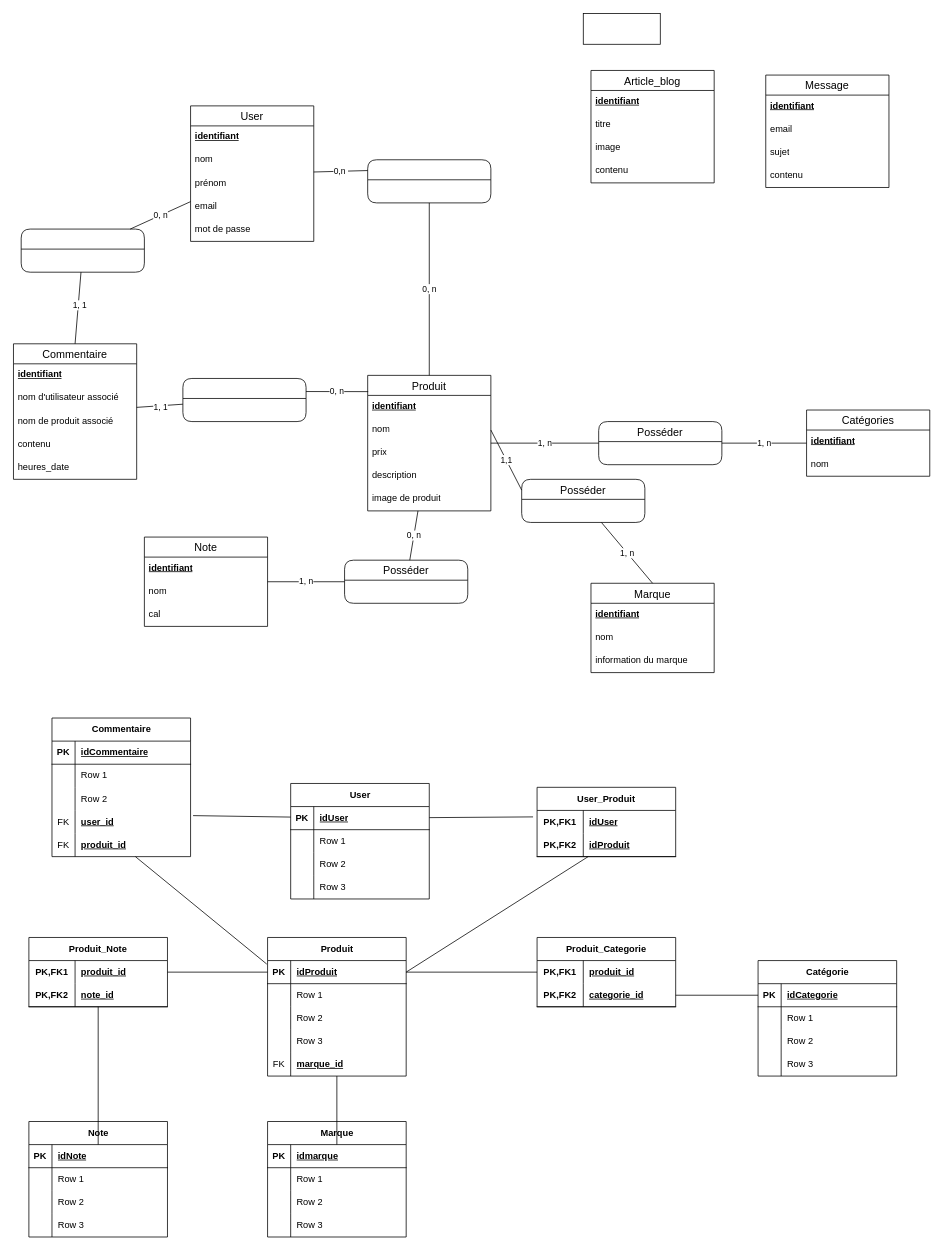
The diagram is 943 pixels wide and 1250 high, and some of its shapes have lost their labels. Here are the shapes that lost their labels. From the top down, the centre of each, then its label:
the point at 621,28: Magasine
the point at 429,181: Préférer
the point at 82,250: Laisser
the point at 244,400: Avoir
